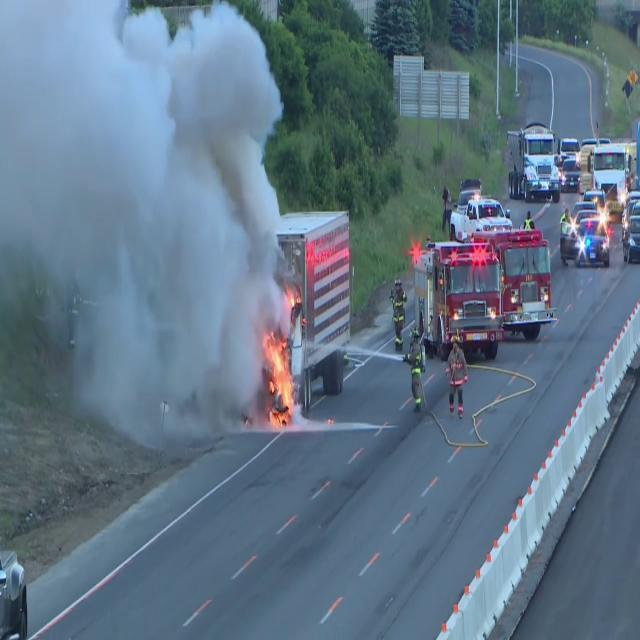Fire: (262, 324, 296, 424)
Smoke: (0, 1, 288, 449)
